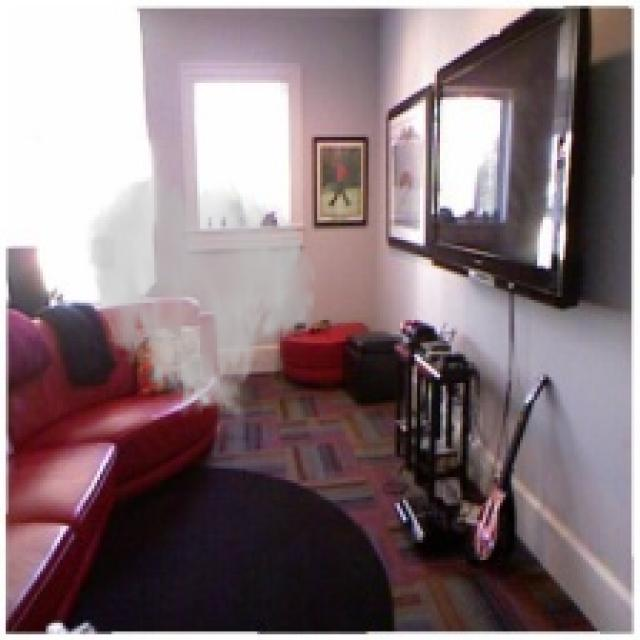smoke: (86, 171, 320, 426)
